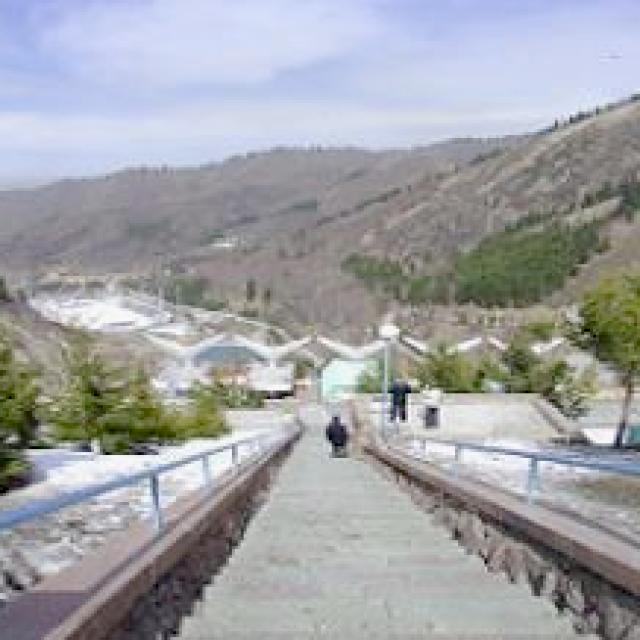downstair: (183, 526, 567, 640)
